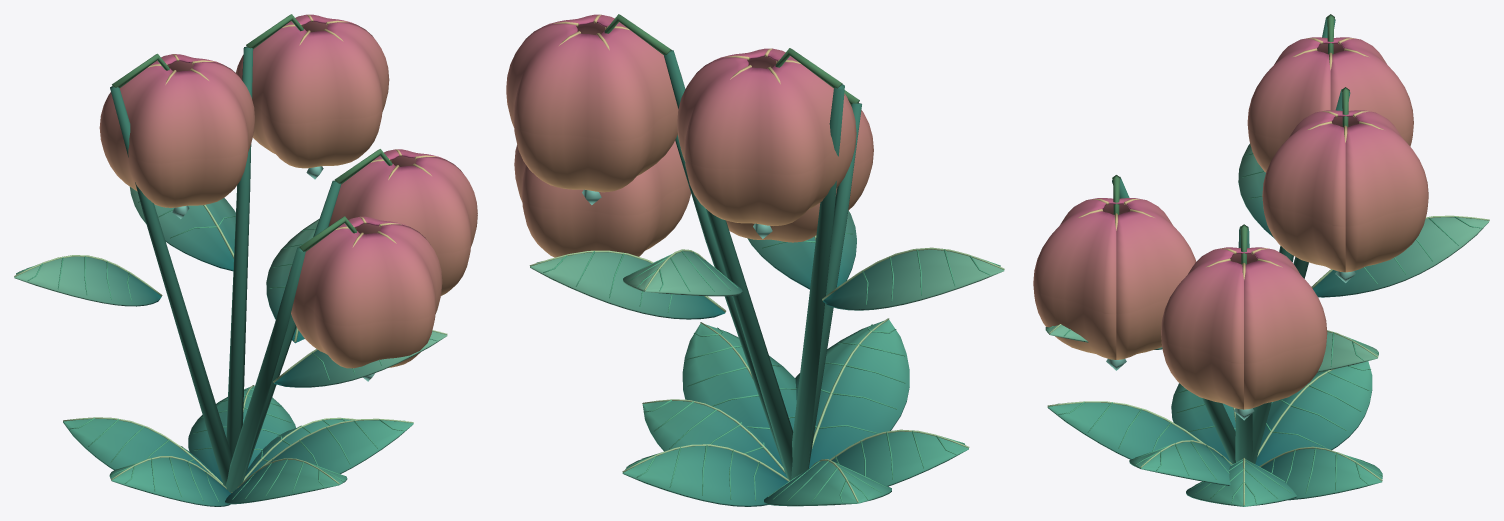
The model's file is enchanted-bellfruit.glb.
The picture shows the model from 3 angles, left to right: view 1: azimuth 30°, elevation 25°; view 2: azimuth 150°, elevation 25°; view 3: azimuth 270°, elevation 25°; orthographic projection. The views are drawn at different scales.
Parts seen in each view (by area): view 1: enchanted-bellfruit-sculpted-details; view 2: enchanted-bellfruit-sculpted-details; view 3: enchanted-bellfruit-sculpted-details.
Part boxes in pixels (bbox=[...]): enchanted-bellfruit-sculpted-details: bbox=[14, 14, 477, 506]; enchanted-bellfruit-sculpted-details: bbox=[506, 14, 1004, 506]; enchanted-bellfruit-sculpted-details: bbox=[1033, 14, 1489, 506].
Bounding box in the file's own units: 1.1 × 1 × 0.9283.
